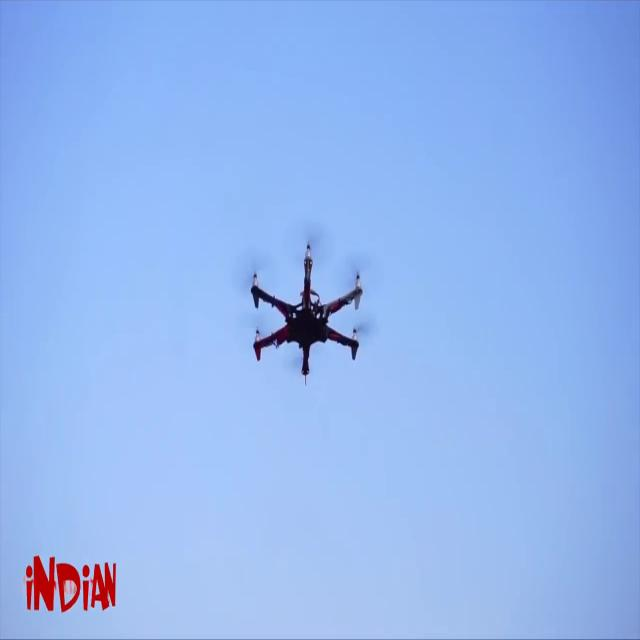drone: (233, 230, 376, 388)
